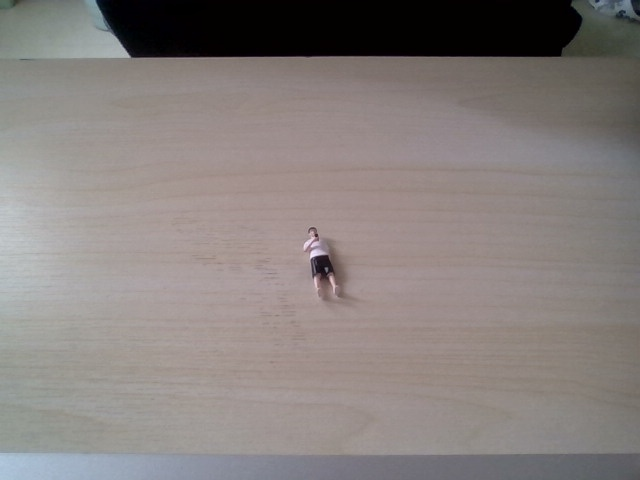fall: (299, 220, 344, 303)
